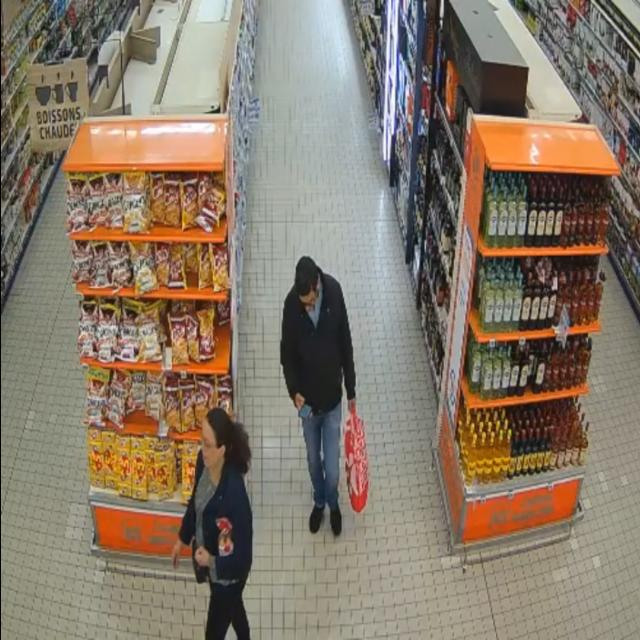article: (215, 518, 233, 555)
bags: (345, 412, 369, 513), (192, 540, 209, 584)
hands: (172, 539, 186, 568), (195, 547, 211, 567), (294, 393, 305, 410), (348, 398, 356, 413)
person: (281, 257, 355, 535), (173, 409, 252, 639)
